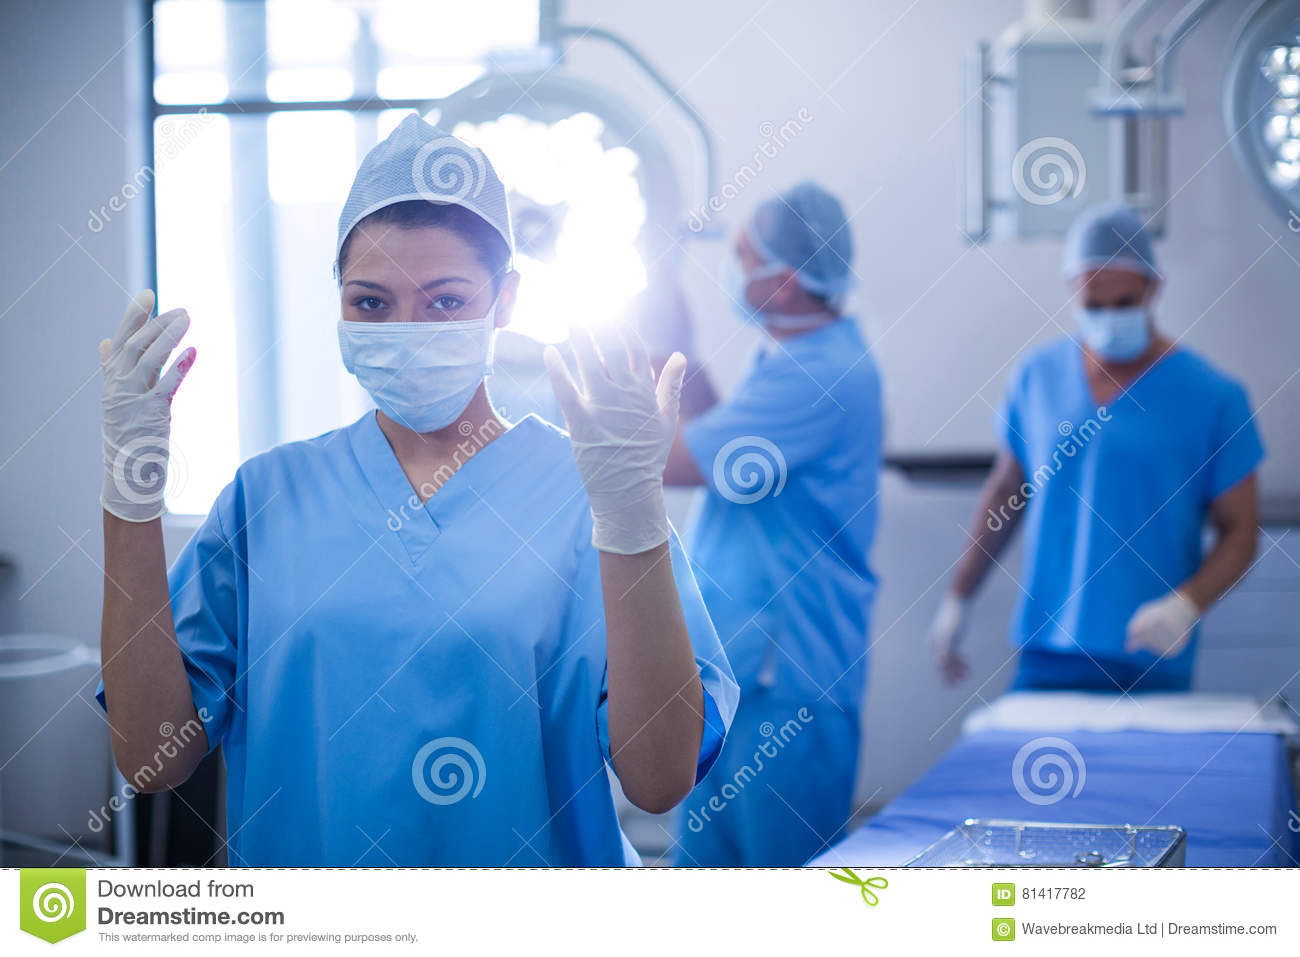mask: (339, 321, 488, 441)
